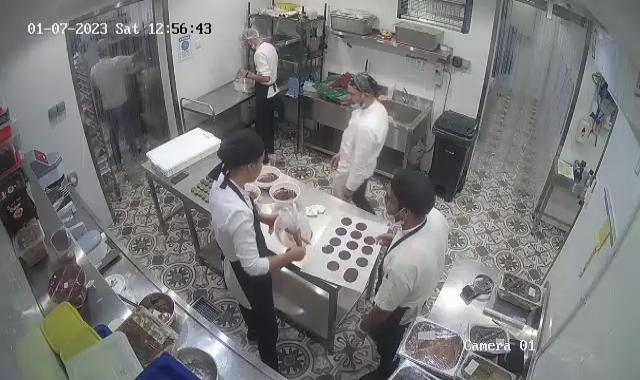hairnet: (240, 29, 260, 48)
no_hairnet: (389, 169, 436, 216), (218, 130, 265, 172), (348, 72, 380, 101)
